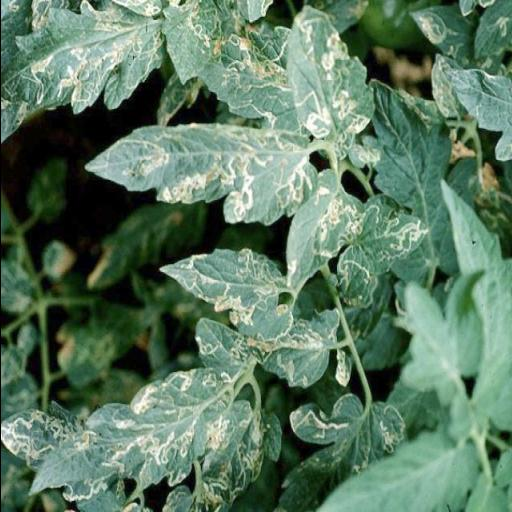Leaf Miner: (27, 366, 233, 498), (86, 122, 318, 226), (1, 0, 166, 114), (158, 247, 292, 342), (286, 0, 375, 141), (286, 169, 366, 289)
